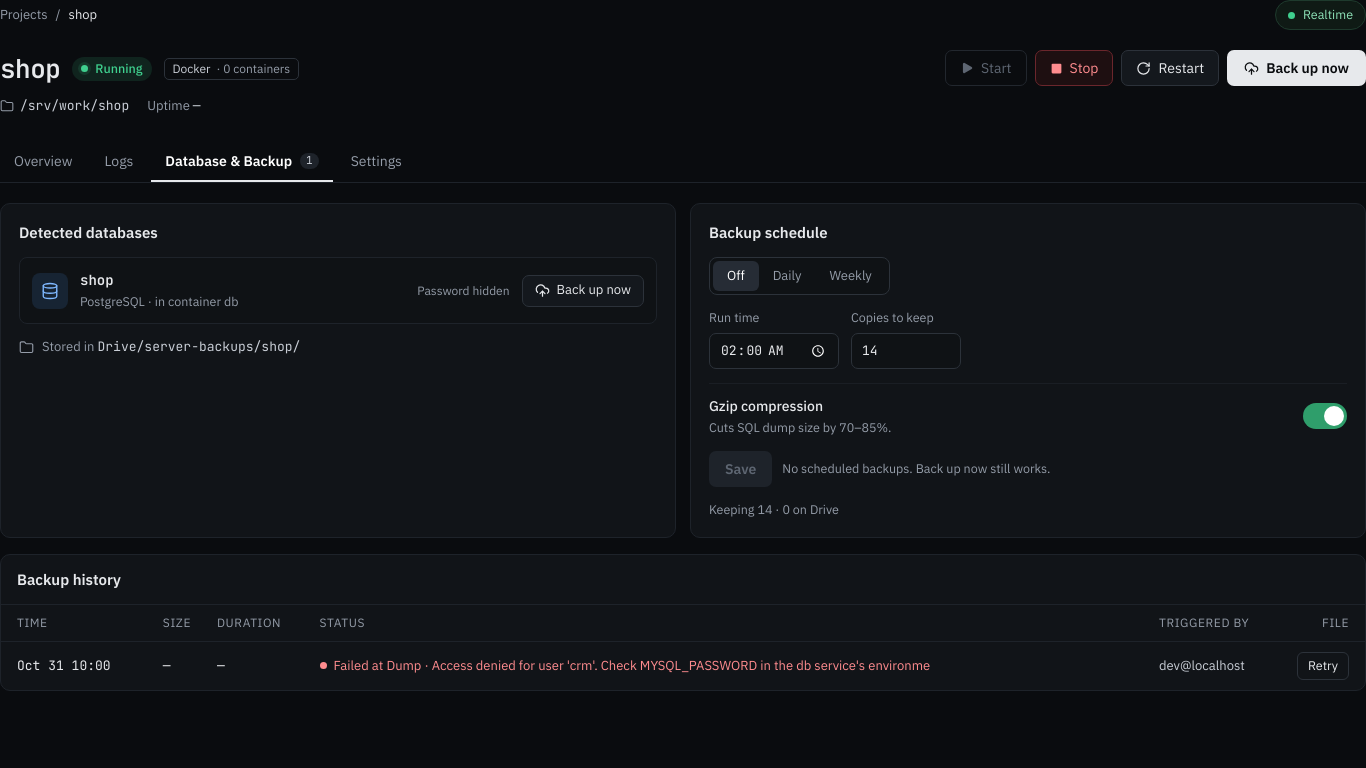
Test case: backup history › opens a row in the progress dialog
Click the button "Failed at Dump".
click(625, 666)  # box [320,657,930,675]
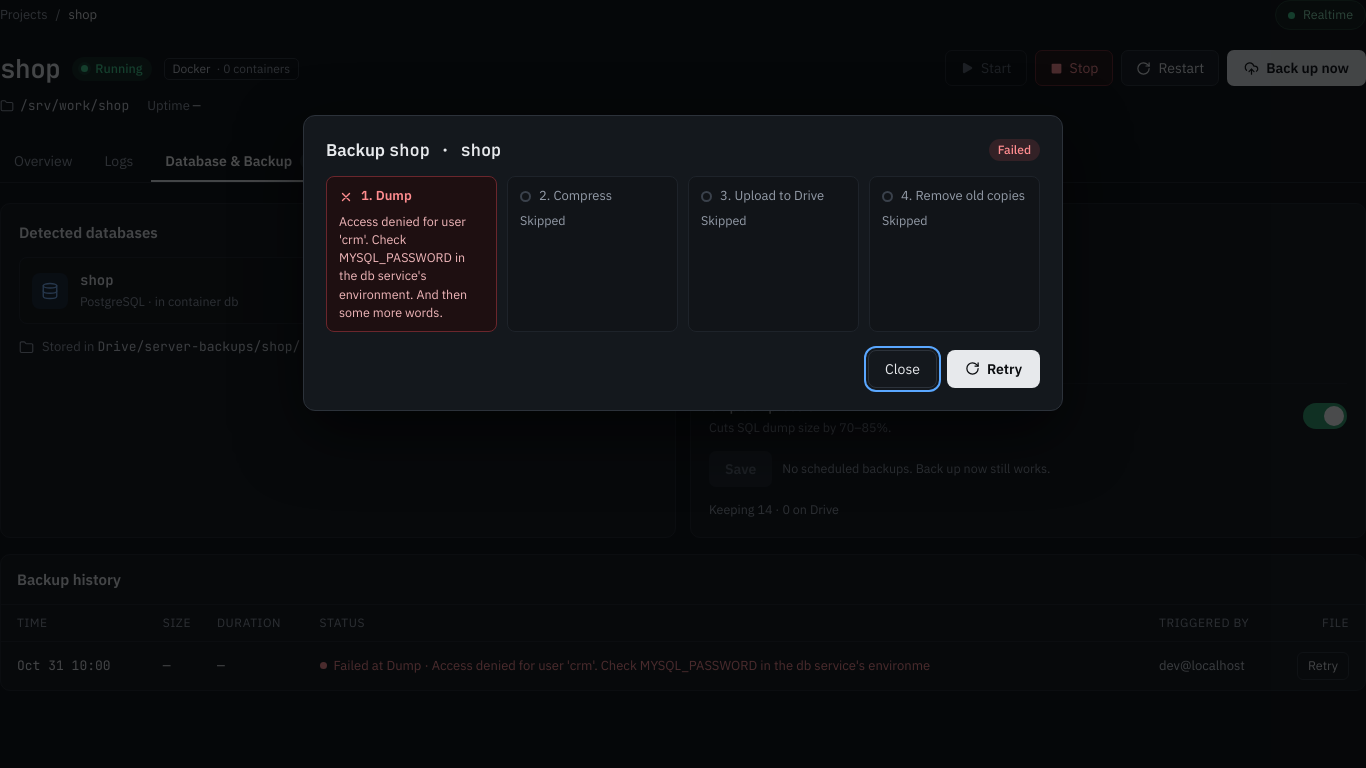
Result: the dialog "Backup shop · shop" shows "Access denied for user 'crm'. Check MYSQL_PASSWORD in the db service's environment. And then some more words." at [339,213,467,320]
